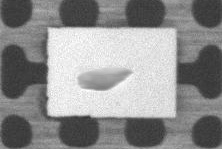DIE_INK: (75, 66, 133, 91)
